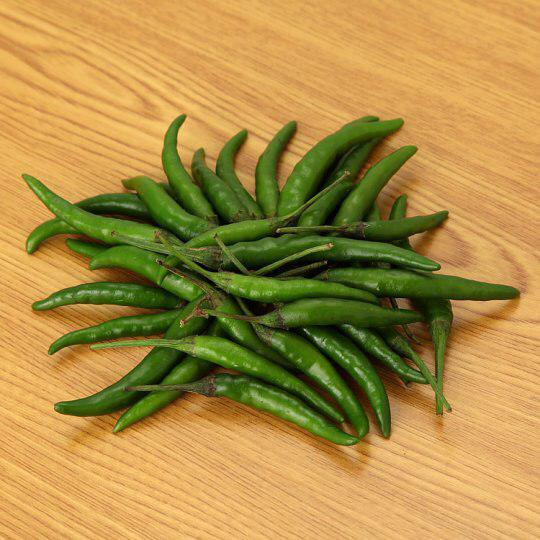lada hijau: (164, 332, 347, 417), (205, 368, 372, 456), (287, 108, 402, 222), (24, 173, 179, 256), (67, 337, 188, 423), (324, 258, 532, 308), (211, 229, 439, 272), (207, 261, 379, 309), (43, 304, 180, 361), (252, 288, 411, 333), (158, 108, 220, 223), (126, 172, 215, 241), (343, 323, 424, 391), (35, 276, 183, 312), (197, 154, 254, 223)
